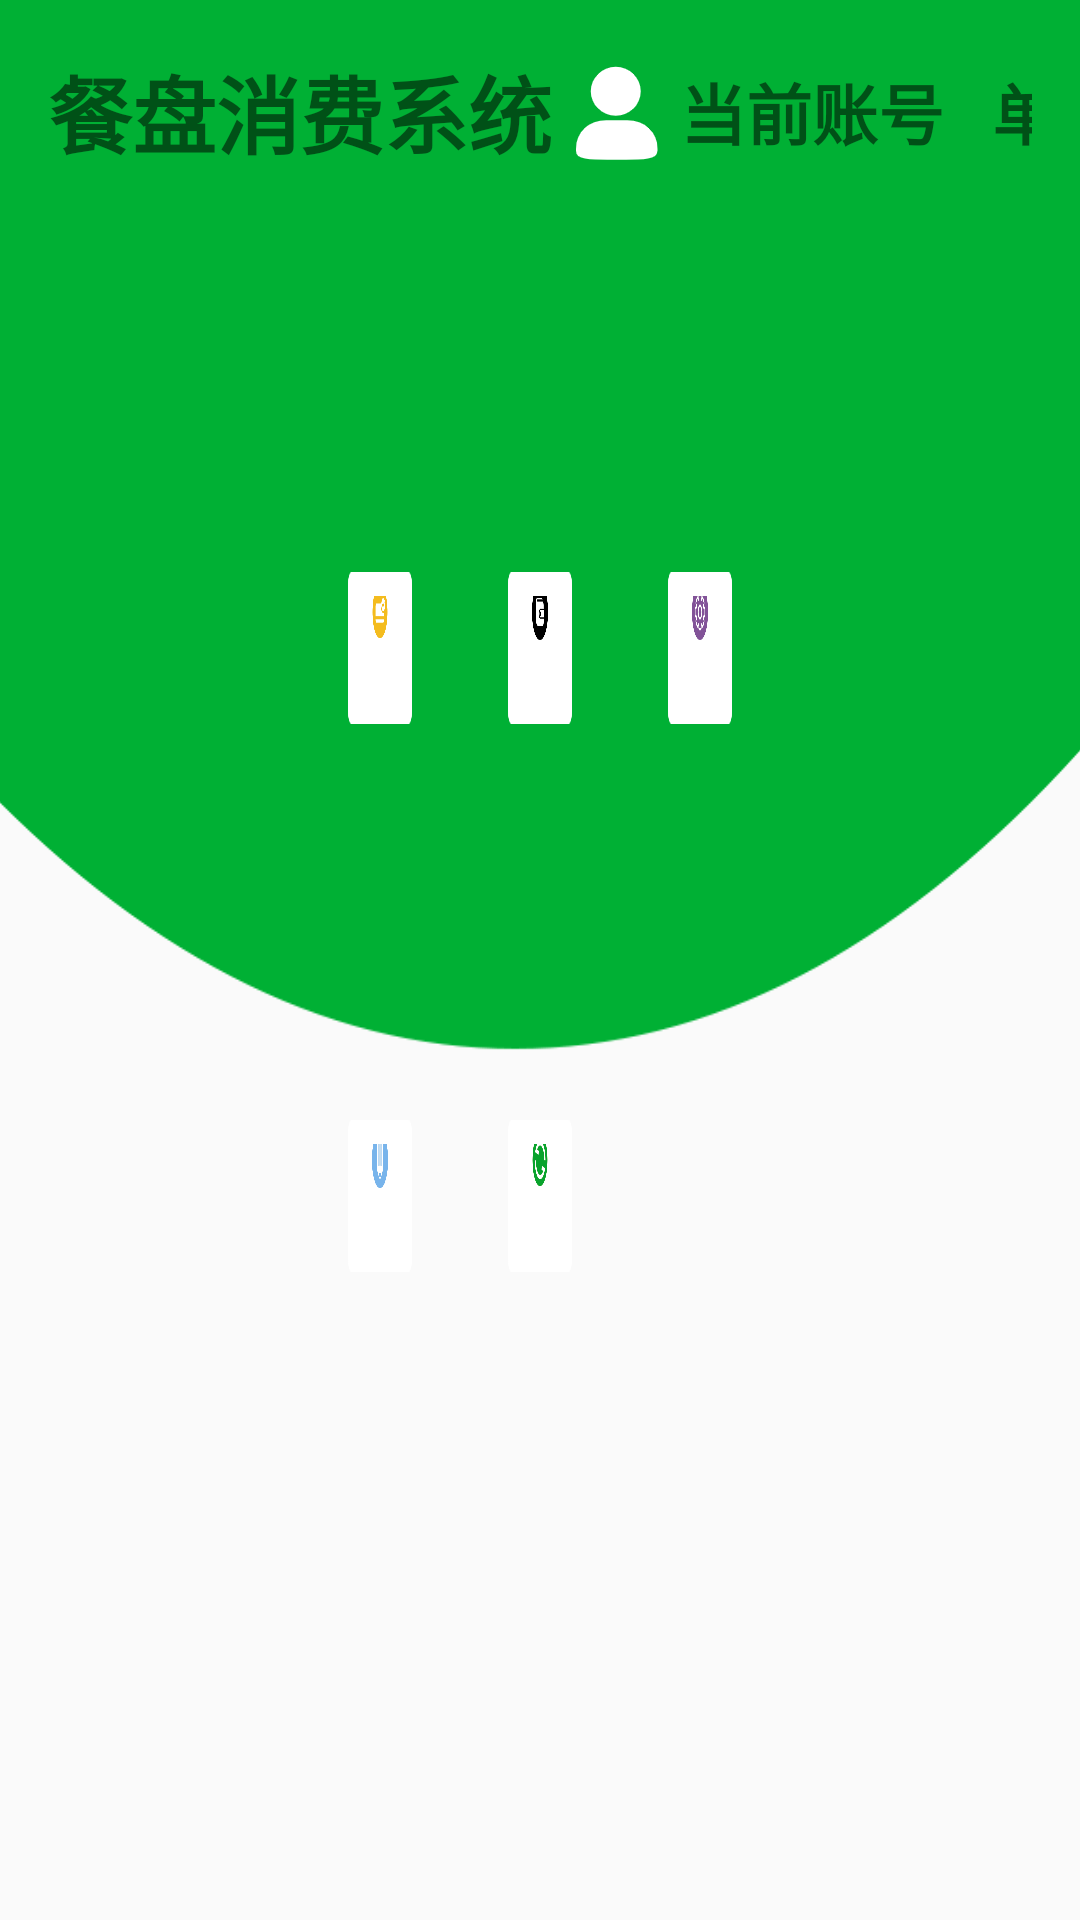

Named icons in this screenshot (1080x1920) and their bounding boxes, (x1, y1, x2, y2):
account: (576, 66, 658, 160)
